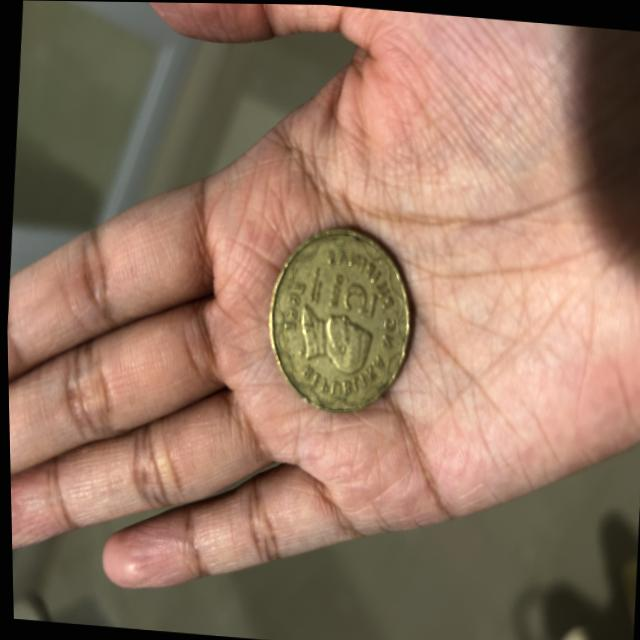5_Old_Front: (319, 264, 382, 325)
